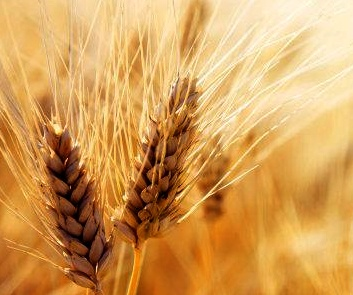wheat: (123, 17, 232, 268), (19, 85, 116, 286)
